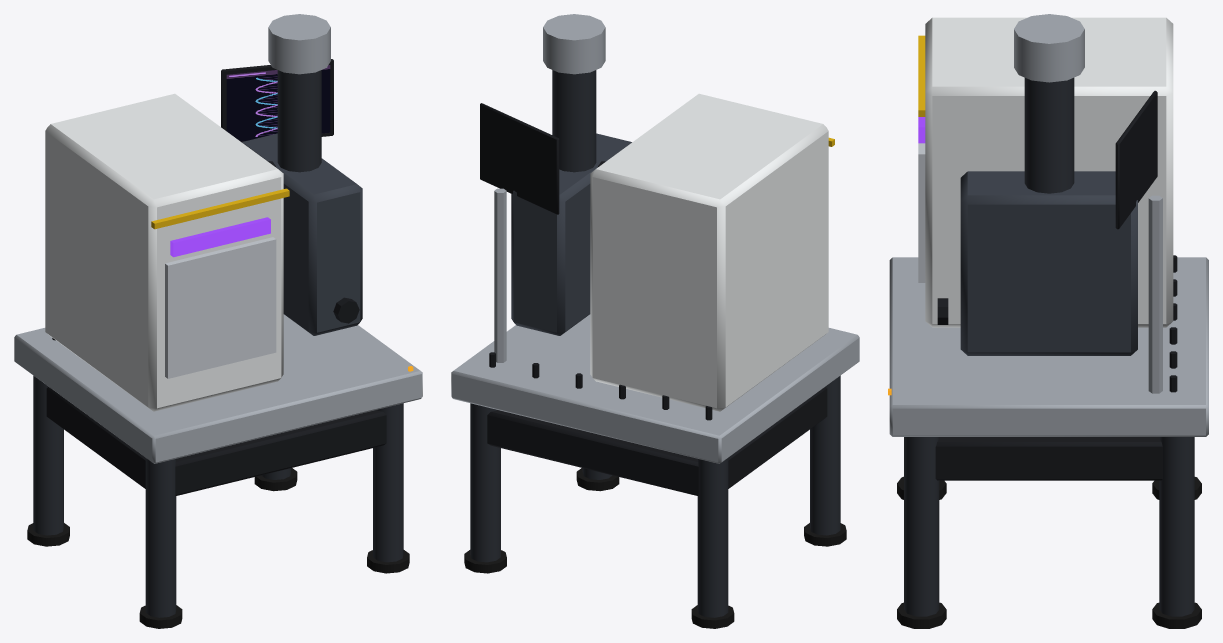
The model's file is microscope_confocal_cabinet.glb.
3 renders of one model, left to right at view 1: azimuth 30°, elevation 25°; view 2: azimuth 150°, elevation 25°; view 3: azimuth 270°, elevation 25°, orthographic. The views are drawn at different scales.
Visible parts, largest first — view 1: microscope_confocal_cabinet; view 2: microscope_confocal_cabinet; view 3: microscope_confocal_cabinet.
Part boxes in pixels (x1=…): microscope_confocal_cabinet: x1=14, y1=14, x2=422, y2=628; microscope_confocal_cabinet: x1=451, y1=14, x2=859, y2=628; microscope_confocal_cabinet: x1=888, y1=14, x2=1208, y2=628.
Bounding box in the file's own units: 1.04 × 1.78 × 0.905.
11 materials, 1 textured.
